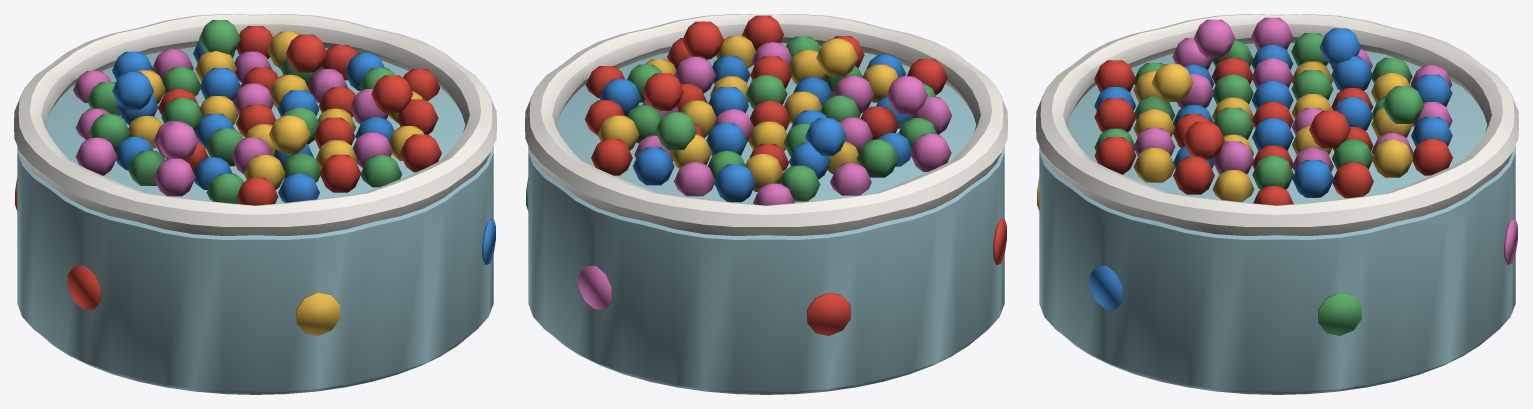
Rendered from ballPit.glb.
3 views of the same model, side by side, from view 1: azimuth 30°, elevation 25°; view 2: azimuth 150°, elevation 25°; view 3: azimuth 270°, elevation 25° (orthographic).
Visible parts, largest first — view 1: body, balls; view 2: body, balls; view 3: body, balls.
Boxes of the visible parts, bbox=[...] form: body: bbox=[14, 14, 496, 394]; balls: bbox=[112, 20, 412, 160]; body: bbox=[525, 14, 1007, 394]; balls: bbox=[642, 21, 927, 155]; body: bbox=[1036, 14, 1518, 394]; balls: bbox=[1151, 19, 1424, 159].
Size of the model in its own units: 0.9202 by 0.47 by 0.9202.
